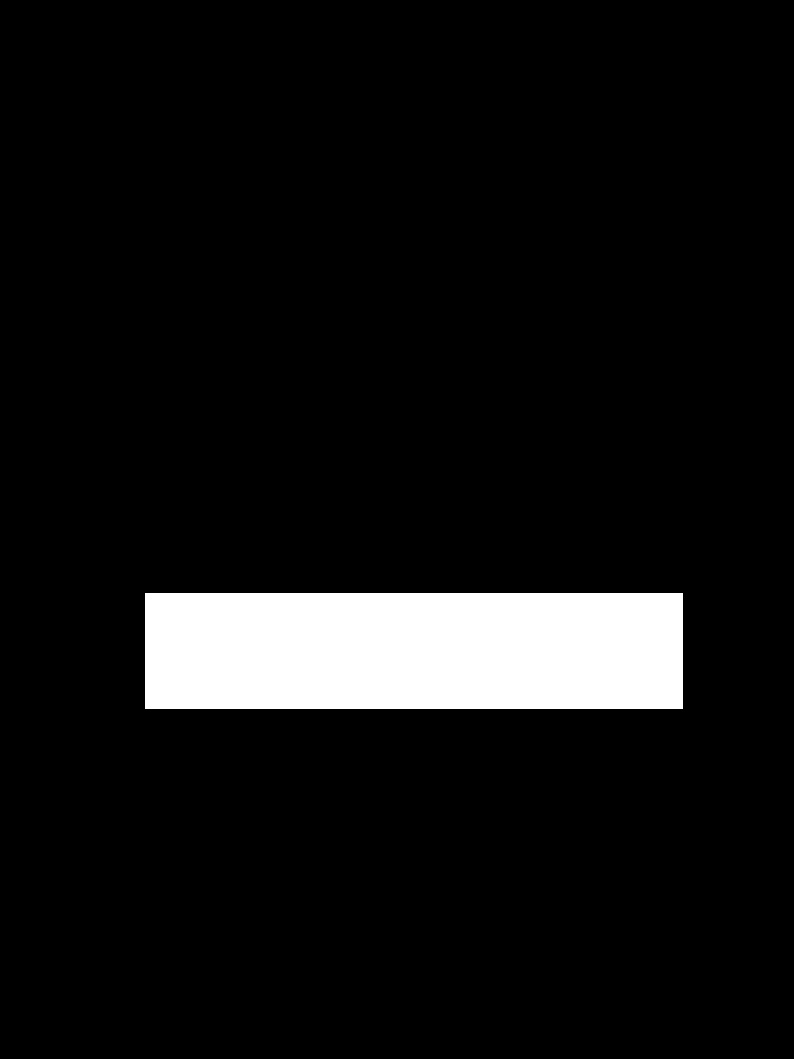table: (145, 593, 682, 708)
